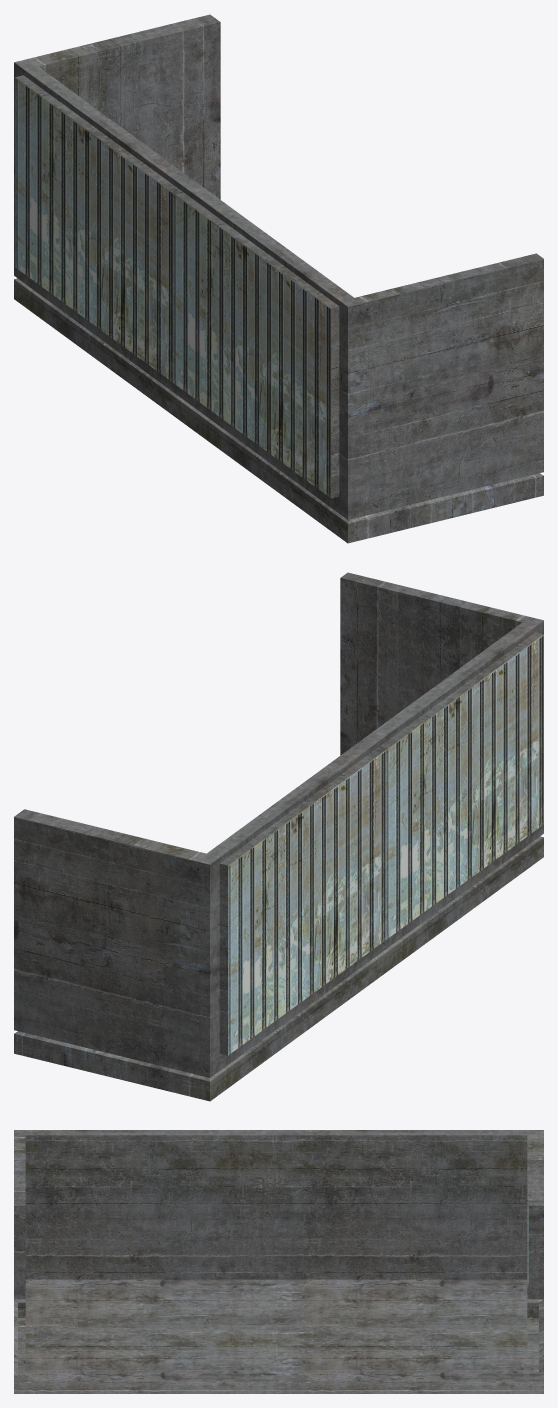
File: civ_balcony_f.FBX
3 views of the same model, one above another, from view 1: azimuth 30°, elevation 25°; view 2: azimuth 150°, elevation 25°; view 3: azimuth 270°, elevation 25° (orthographic). The views are drawn at different scales.
Parts seen in each view (by area): view 1: civ_balcony_f; view 2: civ_balcony_f; view 3: civ_balcony_f.
Part boxes in pixels (x1,y1,x2,y2): civ_balcony_f: [14, 14, 543, 543]; civ_balcony_f: [14, 572, 543, 1101]; civ_balcony_f: [14, 1130, 543, 1393].
Bounding box in the file's own units: 102 × 113 × 287.
